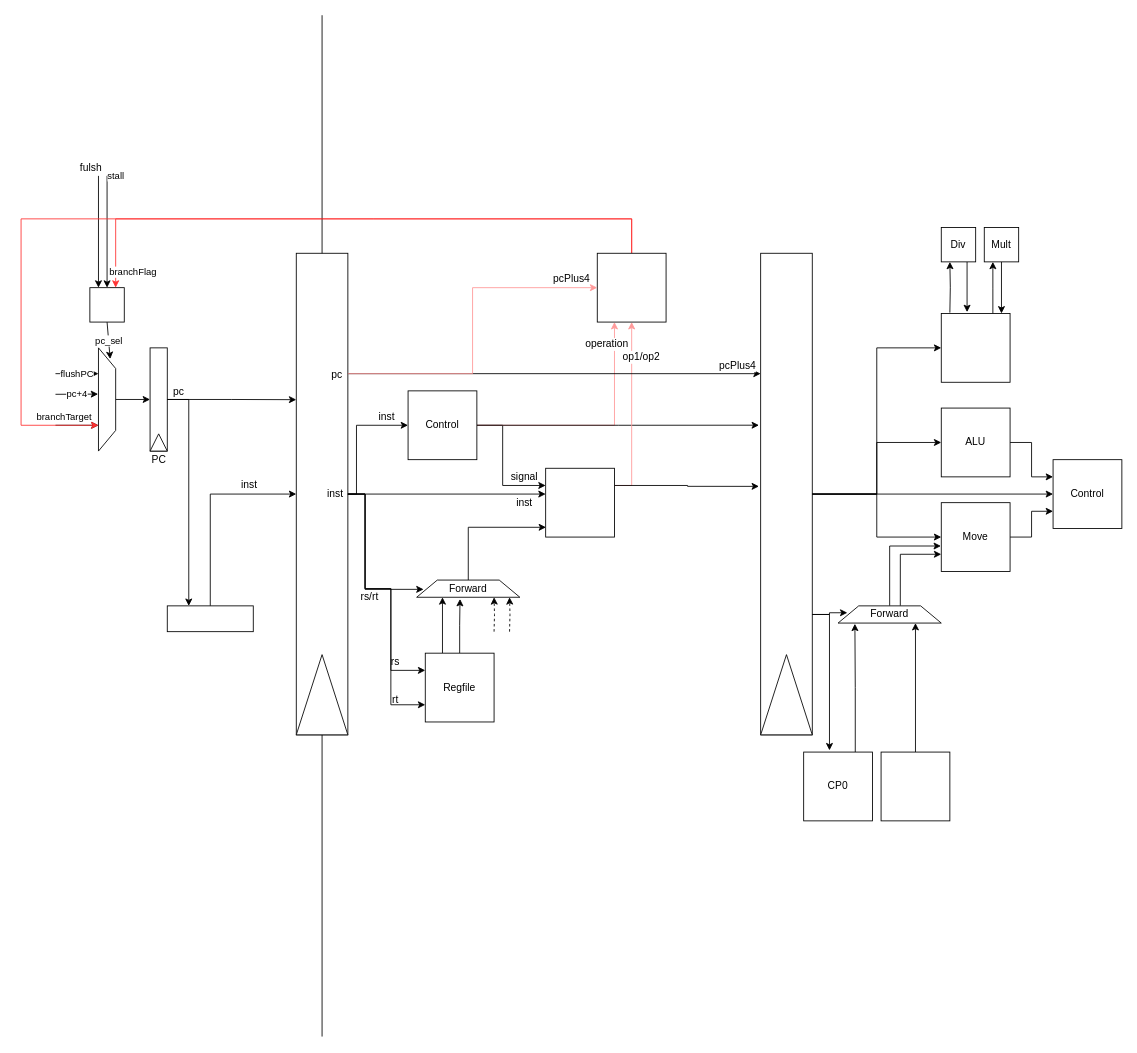
The diagram is 1137 pixels wide and 1053 high, and some of its shapes have lost their labels. Each missing label, with the centre of its shape:
"Branch" belongs at pixel 631 287.
"Decode" belongs at pixel 579 502.
"HILO" belongs at pixel 915 786.
"instMem" belongs at pixel 209 618.
"WriteOther" belongs at pixel 975 347.
